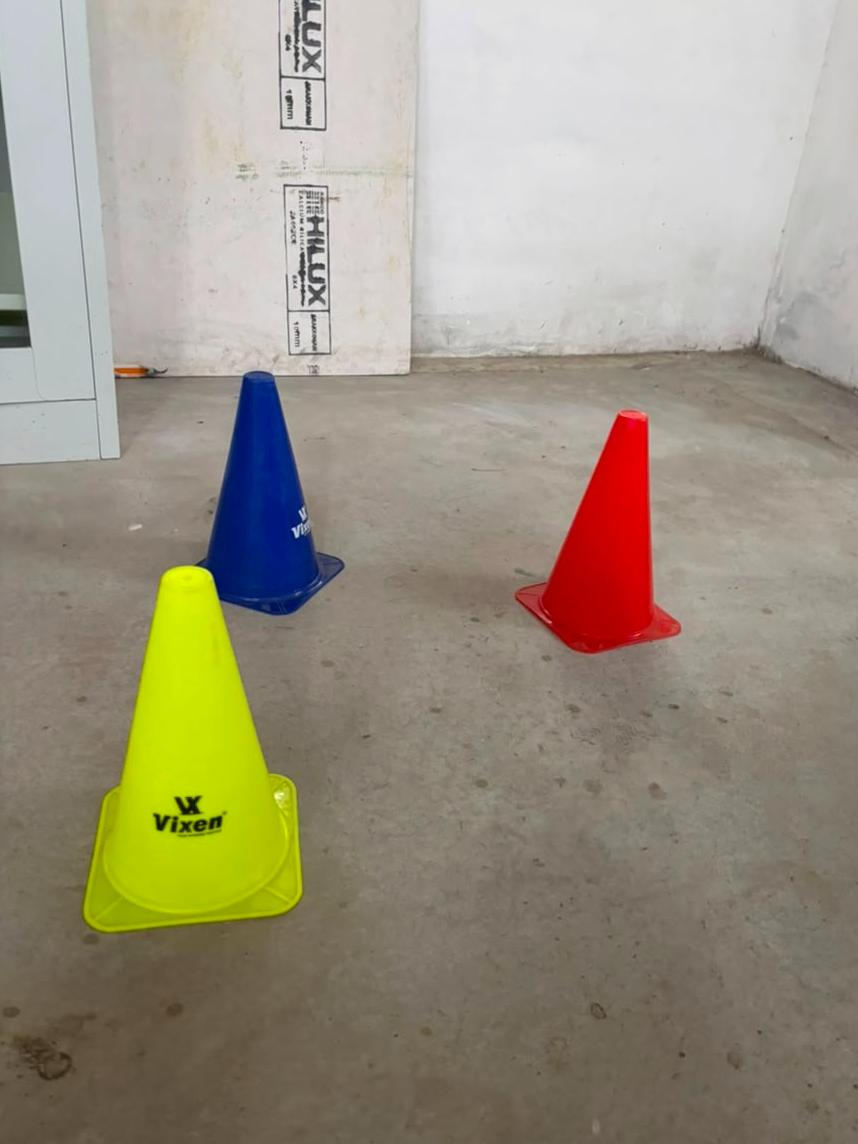0 cone: (85, 372, 343, 932), (516, 410, 679, 652)
